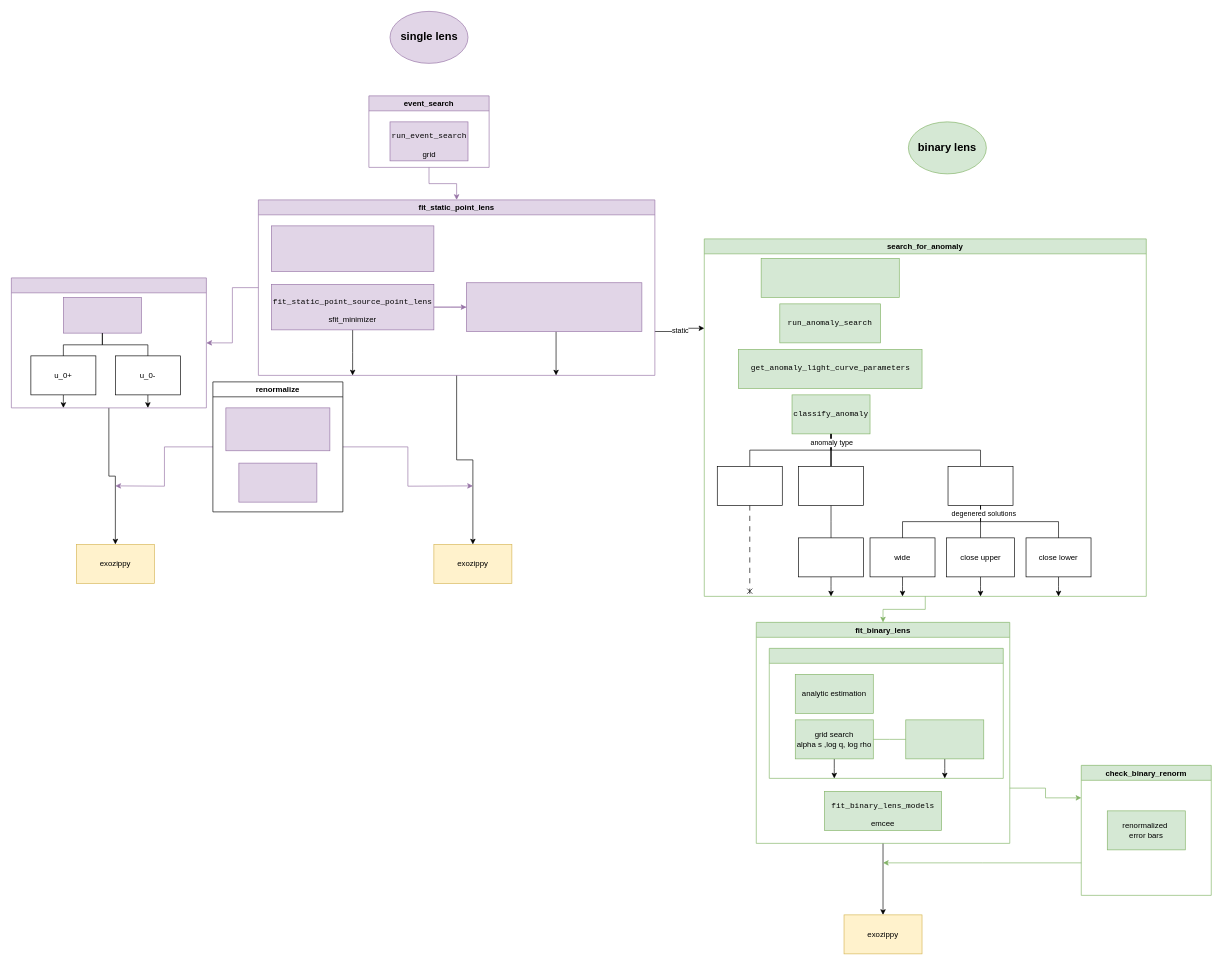
This 1223x965 diagram has some shape labels left out. The shapes that lost their labels are listed below. From the top down, each one's box as (x1, y1, x2, y2) in pixels, then its label:
(271, 225, 434, 271): estimate_point_lens_parameters
(760, 258, 899, 297): compute_point_lens_residuals
(63, 297, 141, 333): fit_parallax sfit_minimizer
(466, 282, 642, 332): fit_static_finite_source_point_lens sfit_minimizer
(11, 277, 206, 408): fit_static_finite_source_point_lens
(225, 407, 330, 451): renormalize_datasets
(238, 462, 317, 502): refit_all
(717, 466, 782, 505): hig_mag
(798, 466, 864, 505): negative
(947, 466, 1013, 505): positive
(798, 537, 864, 577): close
(769, 648, 1003, 778): estimate_binary_lens_parameters
(905, 719, 984, 759): s_dagger solutions
